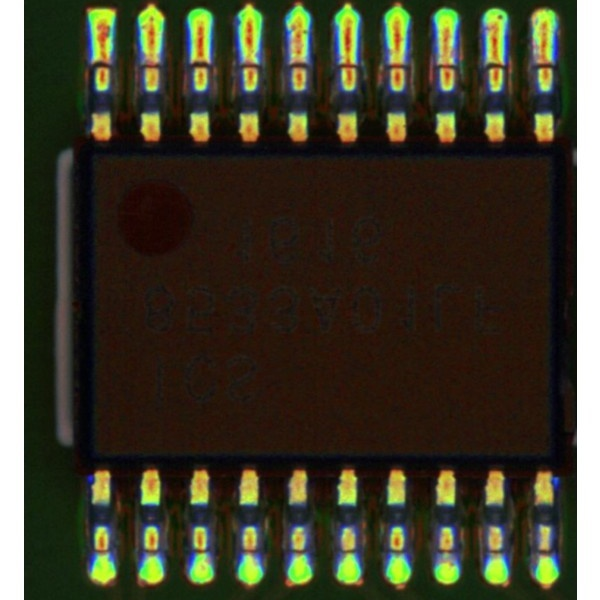Bad_podu: (537, 44, 552, 72), (291, 47, 306, 72), (439, 45, 452, 73), (143, 53, 159, 74), (488, 49, 502, 73), (193, 49, 207, 72), (243, 55, 259, 75), (96, 52, 111, 73), (340, 57, 358, 73), (389, 58, 406, 73)
